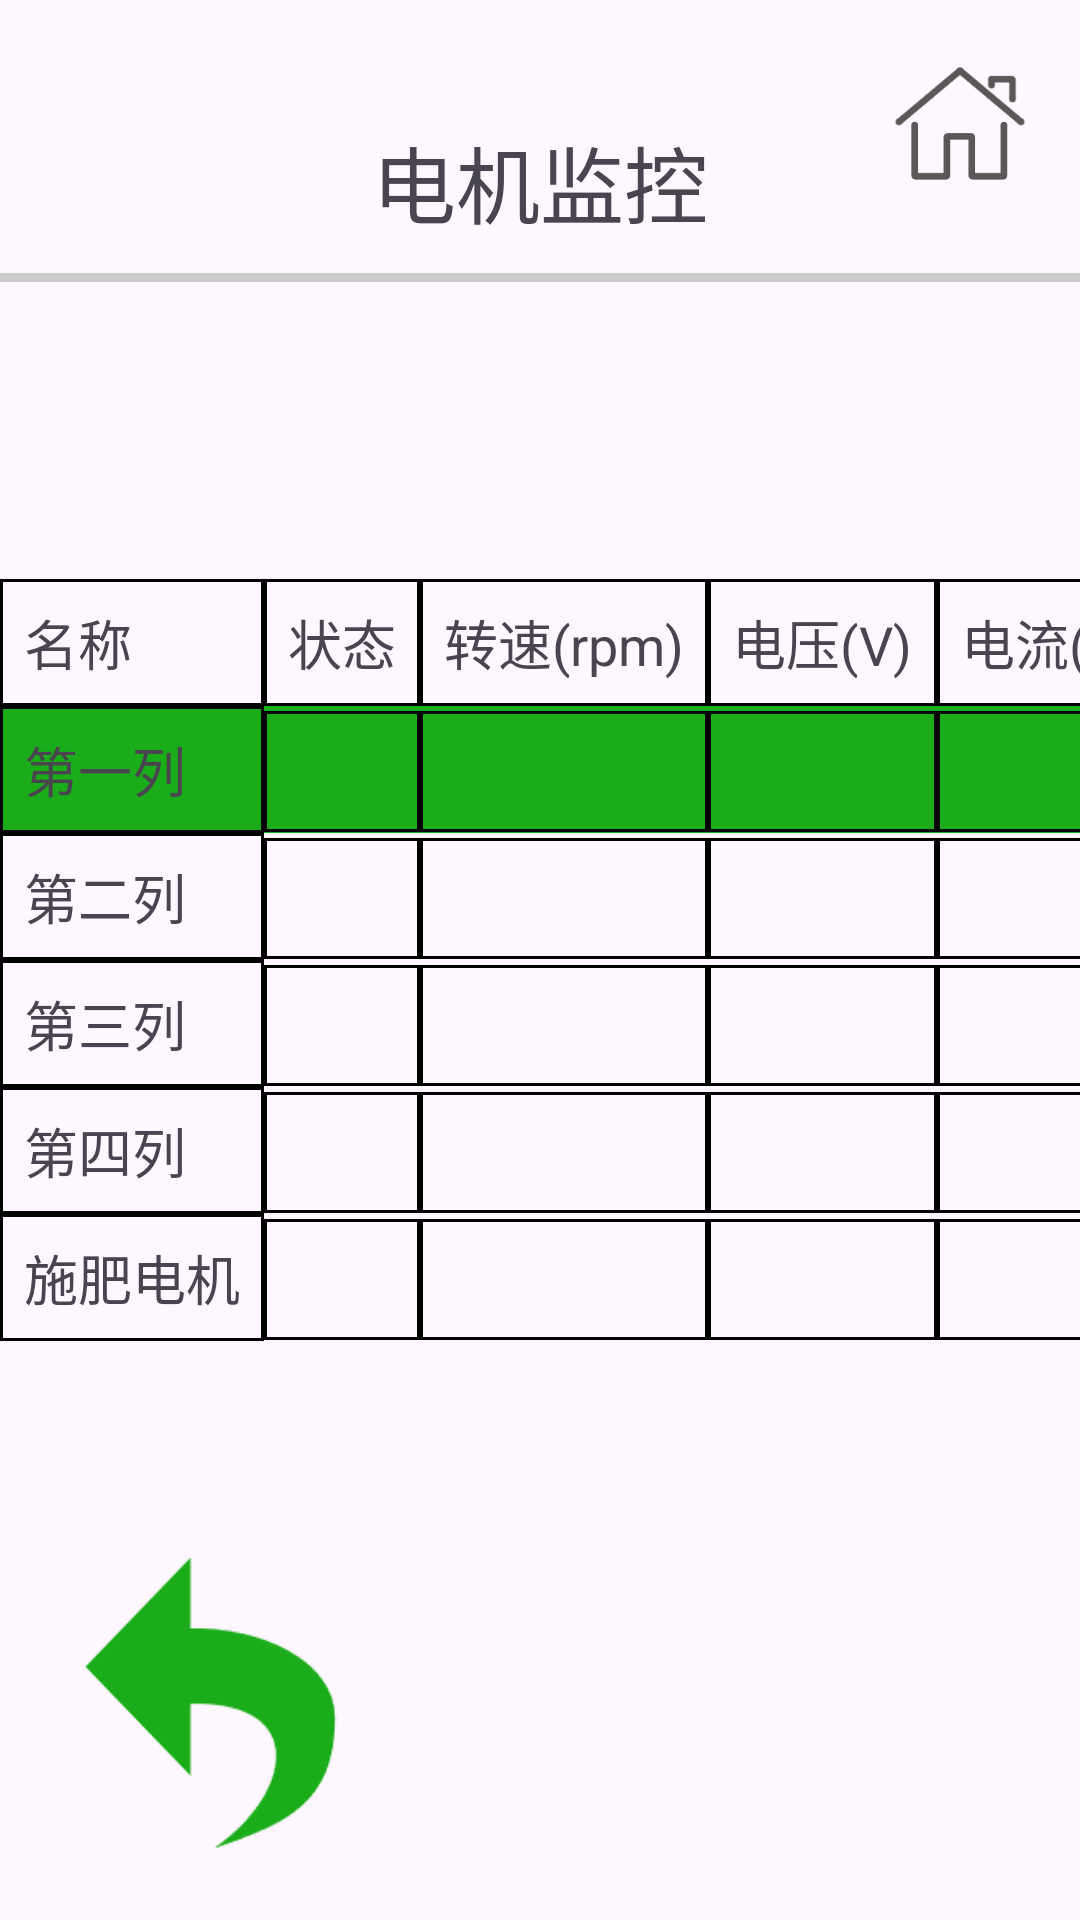

Named icons in this screenshot (1080 × 1920) and their bounding boxes, box(x1, y1, x2, y2):
返回: box(85, 1558, 336, 1848)
返回初始界面: box(895, 67, 1025, 180)
